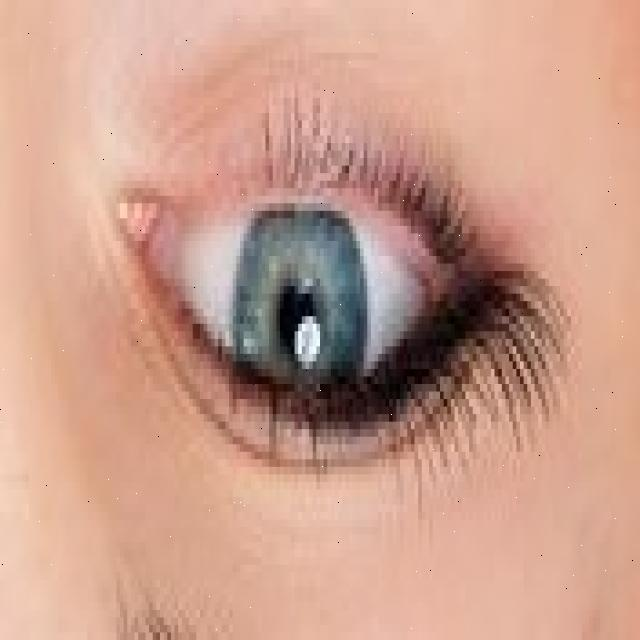Normal: (232, 194, 366, 459)
